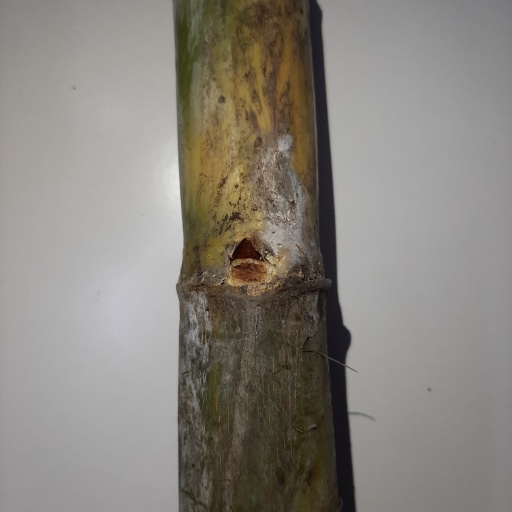Damage_Bud: (231, 235, 266, 283)
